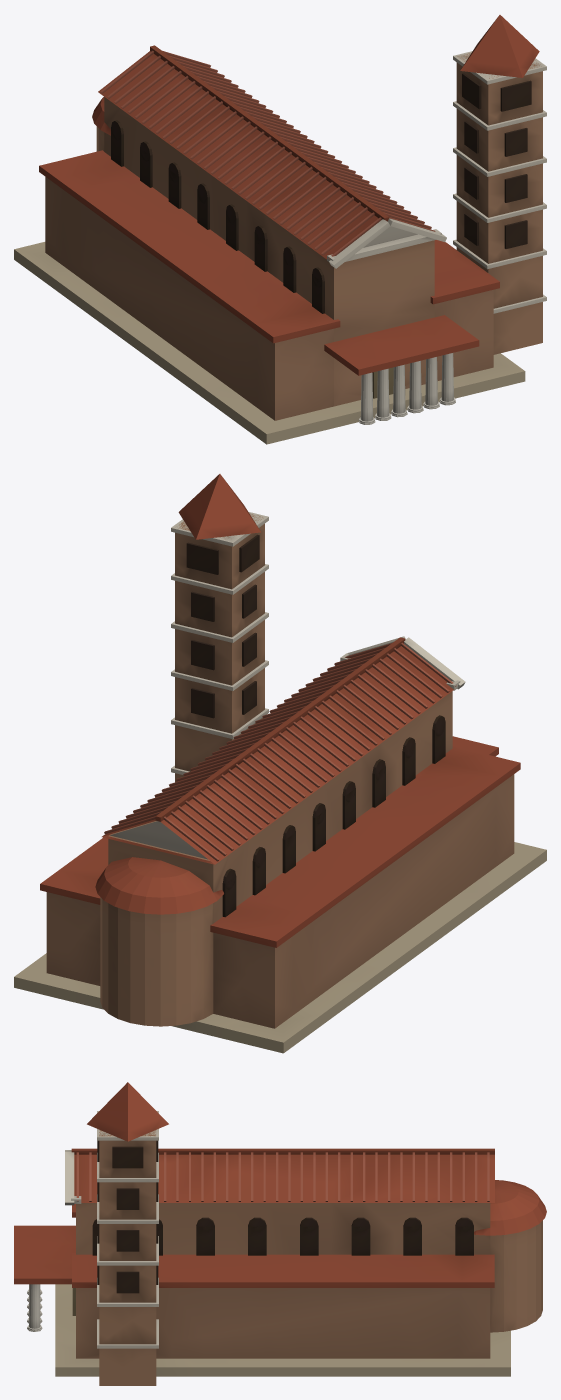
File: santa-maria-in-cosmedin.glb
3 renders of one model, top to bottom at view 1: azimuth 30°, elevation 25°; view 2: azimuth 150°, elevation 25°; view 3: azimuth 270°, elevation 25°, orthographic. The views are drawn at different scales.
Parts seen in each view (by area): view 1: p2_campanile, p1_porch, p0_base; view 2: p2_campanile, p1_porch, p0_base; view 3: p2_campanile, p1_porch, p0_base.
Part boxes in pixels (x1,y1,x2,y2): p2_campanile: [39, 15, 546, 375]; p1_porch: [45, 97, 493, 424]; p0_base: [14, 242, 525, 444]; p2_campanile: [40, 474, 520, 947]; p1_porch: [46, 691, 514, 1028]; p0_base: [14, 842, 546, 1053]; p2_campanile: [14, 1082, 546, 1385]; p1_porch: [27, 1203, 542, 1358]; p0_base: [55, 1284, 510, 1376].
Bounding box in the file's own units: 31.5 × 32.1 × 51.46.
